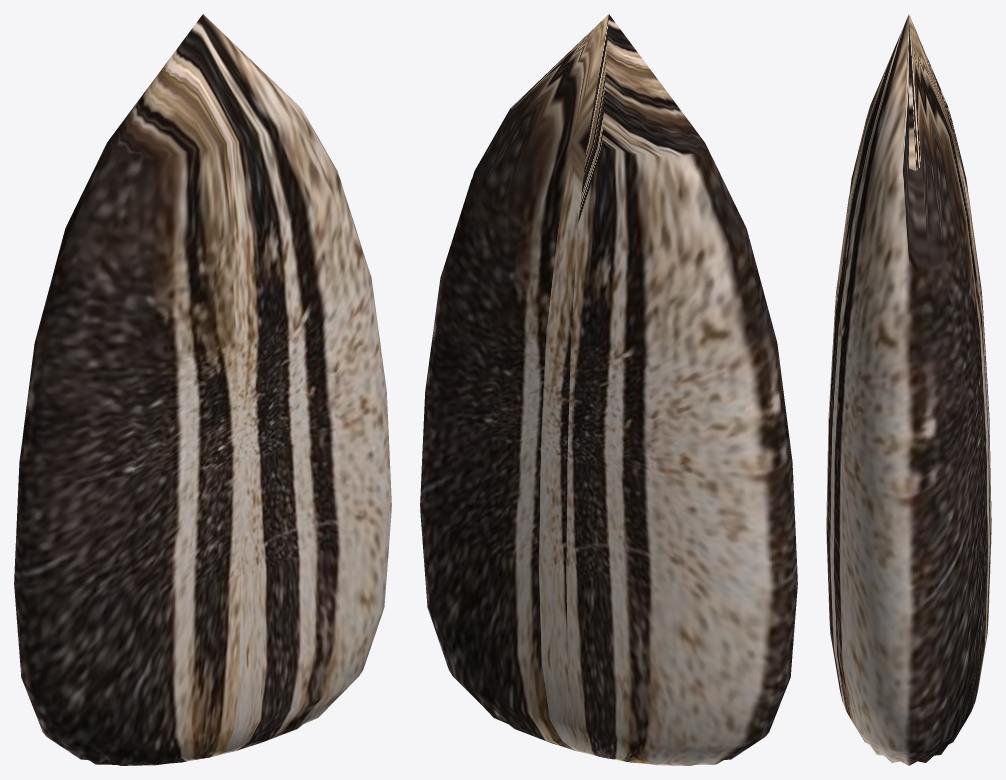
Rendered from Sunflower_seed.fbx.
3 views of the same model, side by side, from view 1: azimuth 30°, elevation 25°; view 2: azimuth 150°, elevation 25°; view 3: azimuth 270°, elevation 25° (orthographic). The views are drawn at different scales.
Visible parts, largest first — view 1: pCylinder4; view 2: pCylinder4; view 3: pCylinder4.
Part boxes in pixels (x1,y1,x2,y2): pCylinder4: (14,14,391,765); pCylinder4: (420,14,797,765); pCylinder4: (826,14,991,765).
Bounding box in the file's own units: 2.74 × 5.16 × 1.1.
